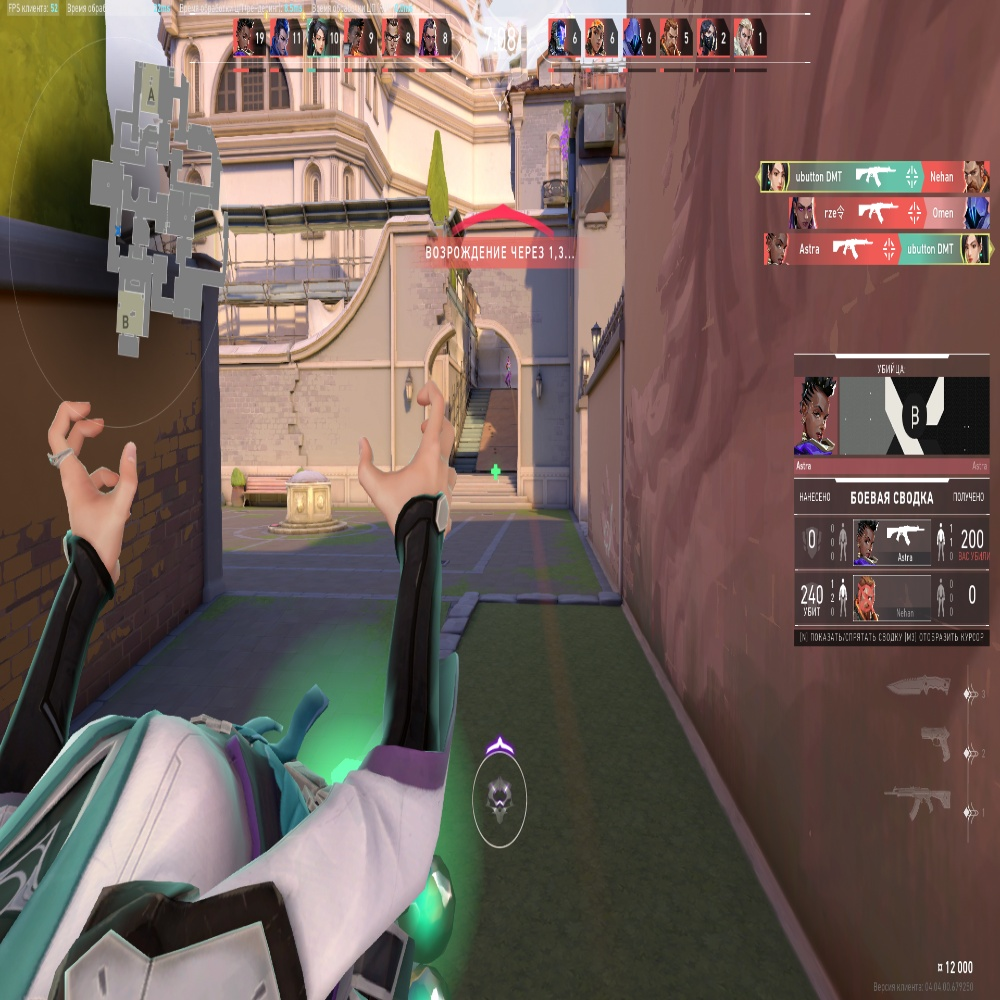body: (507, 362, 511, 375)
head: (507, 356, 510, 361)
